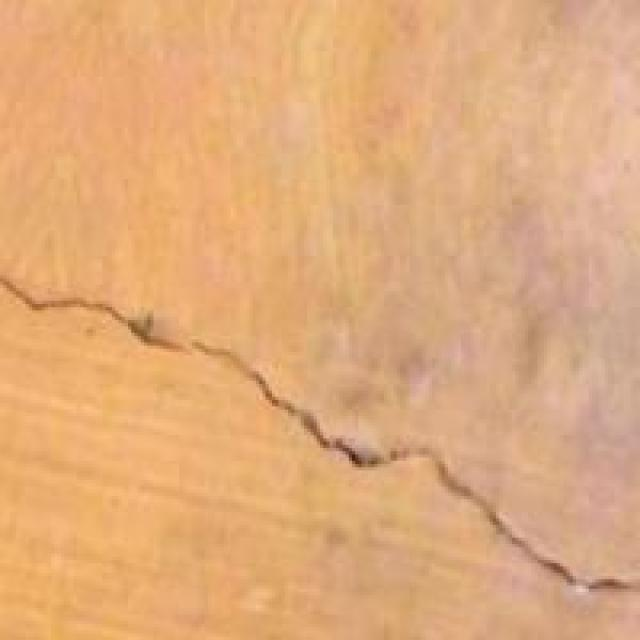crack: (0, 224, 637, 637)
